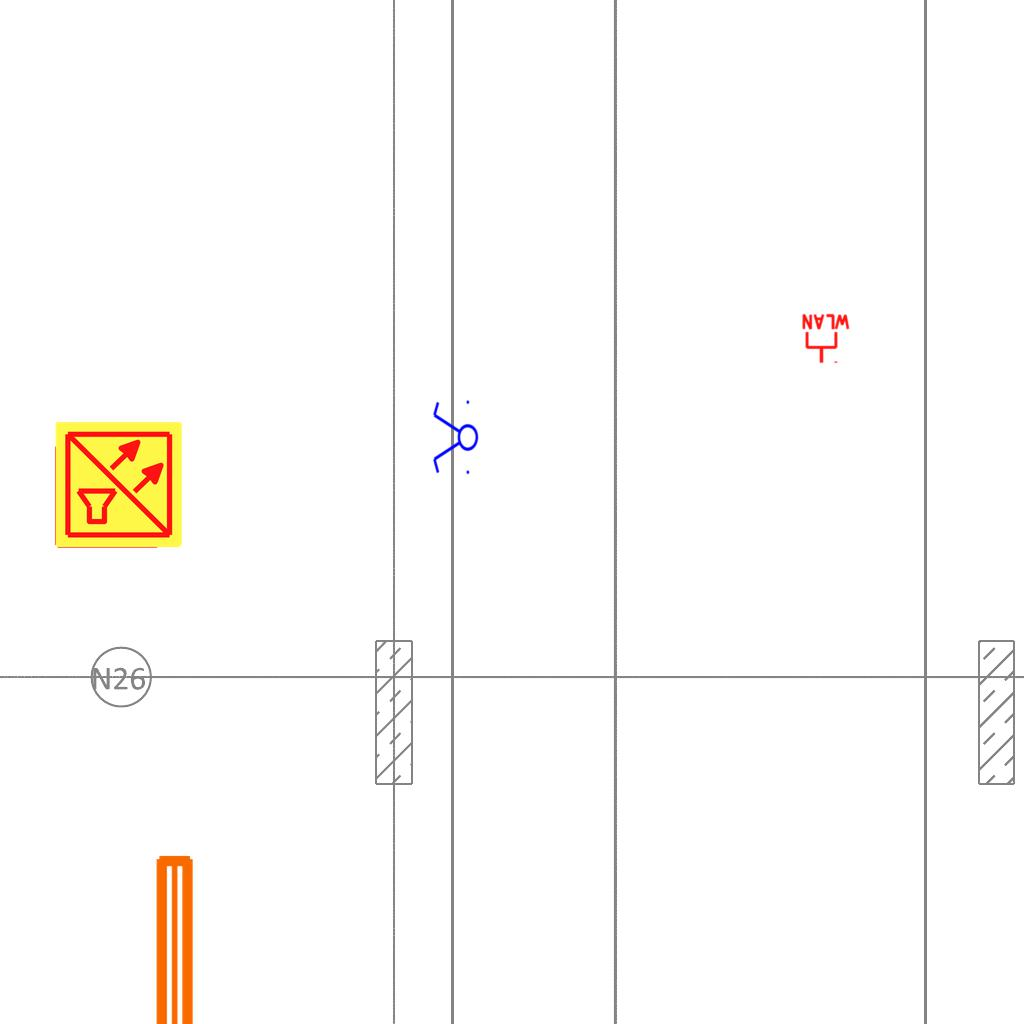Ambulanz_Pendelleuchte_LED: (144, 845, 256, 1024)
OKW_Multisensormelder_(Kombination_optischer_Rauch-Kahlenmonoxid_Waerme-Melder): (53, 419, 185, 551)
Serienschalter: (431, 396, 479, 480)
WLAN: (800, 313, 852, 365)
